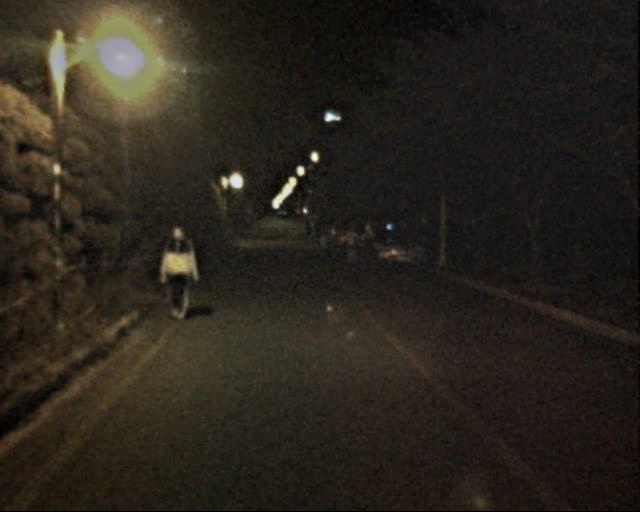person: (160, 223, 201, 323), (343, 224, 361, 268), (304, 218, 326, 249)
